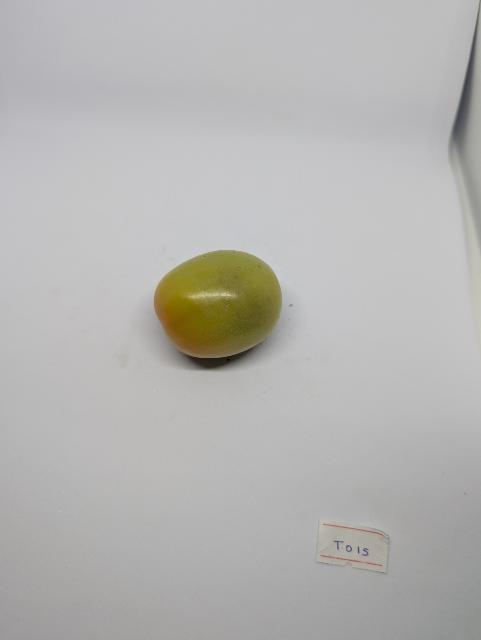breaker: (155, 250, 282, 358)
